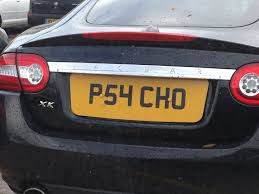number_plate: (63, 70, 215, 126)
